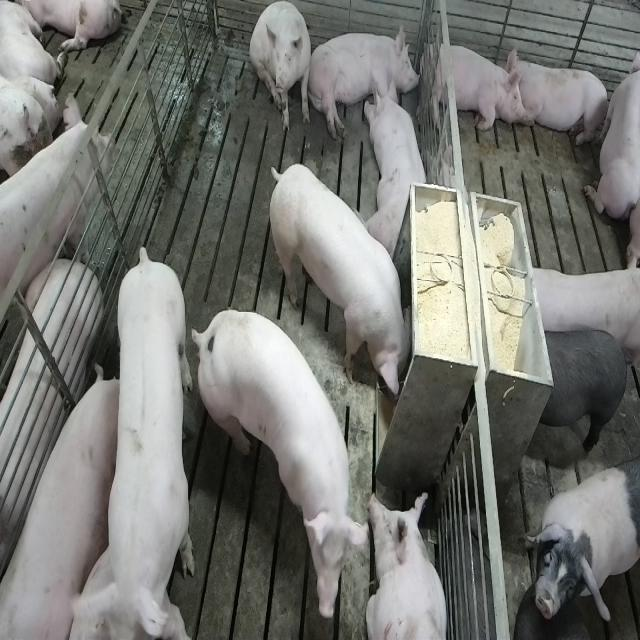Feeding: (272, 161, 420, 405)
Lateral_lying: (0, 262, 100, 600), (307, 21, 421, 141)
Sitting: (250, 1, 314, 134)
Standing: (193, 304, 374, 624), (86, 246, 198, 639), (0, 99, 111, 343), (524, 458, 638, 630), (533, 324, 631, 462), (523, 268, 637, 372)
Sternal_lying: (364, 490, 449, 640), (367, 74, 431, 259), (585, 35, 637, 229), (424, 35, 523, 135), (510, 52, 611, 150)
